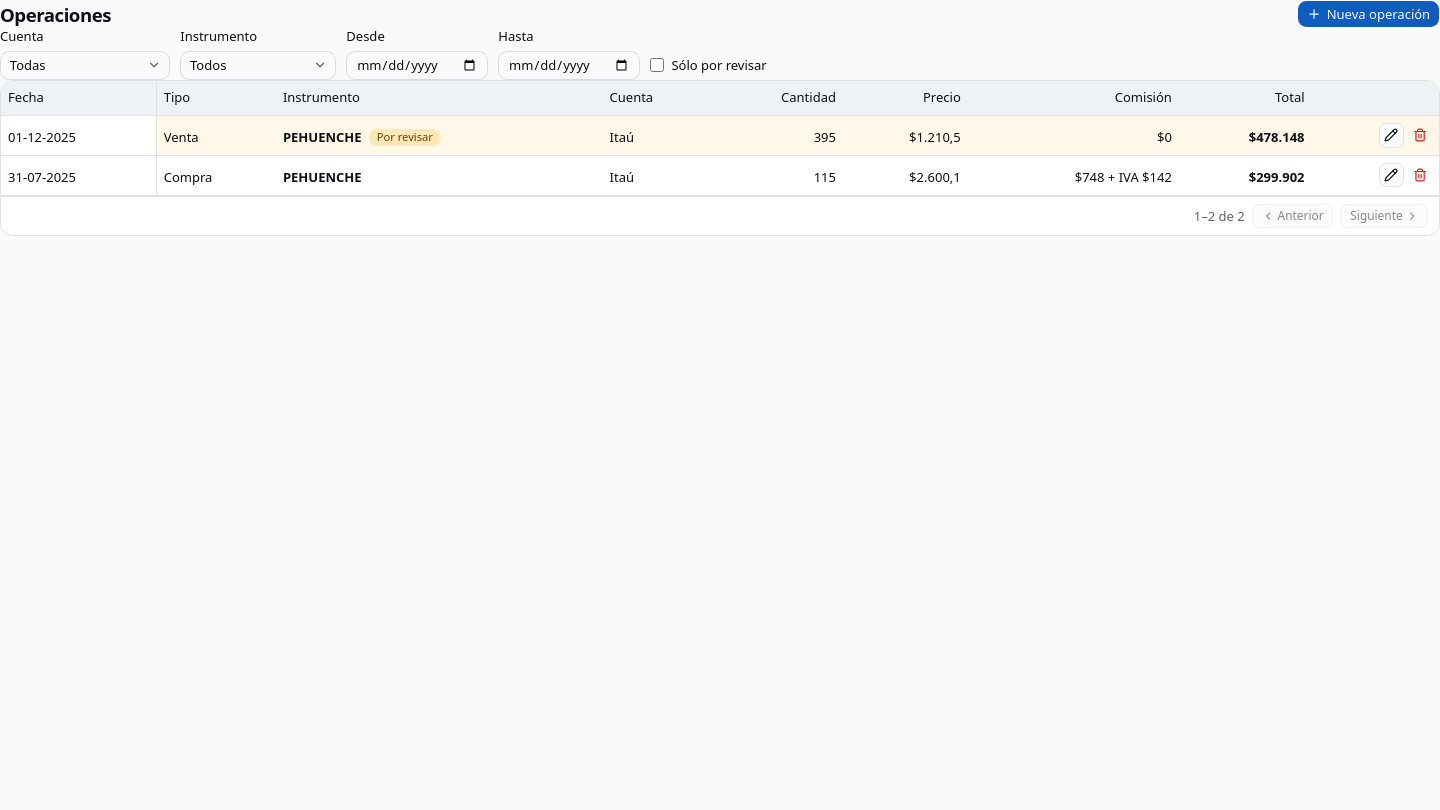
Scenario: TradesScreen › una venta que deja posición negativa muestra INSUFFICIENT_POSITION
Expected: the element named "Operaciones" is shown, [1,80,1439,196]
Click the button "Nueva operación" at (1369, 14), box [1297,0,1439,28]
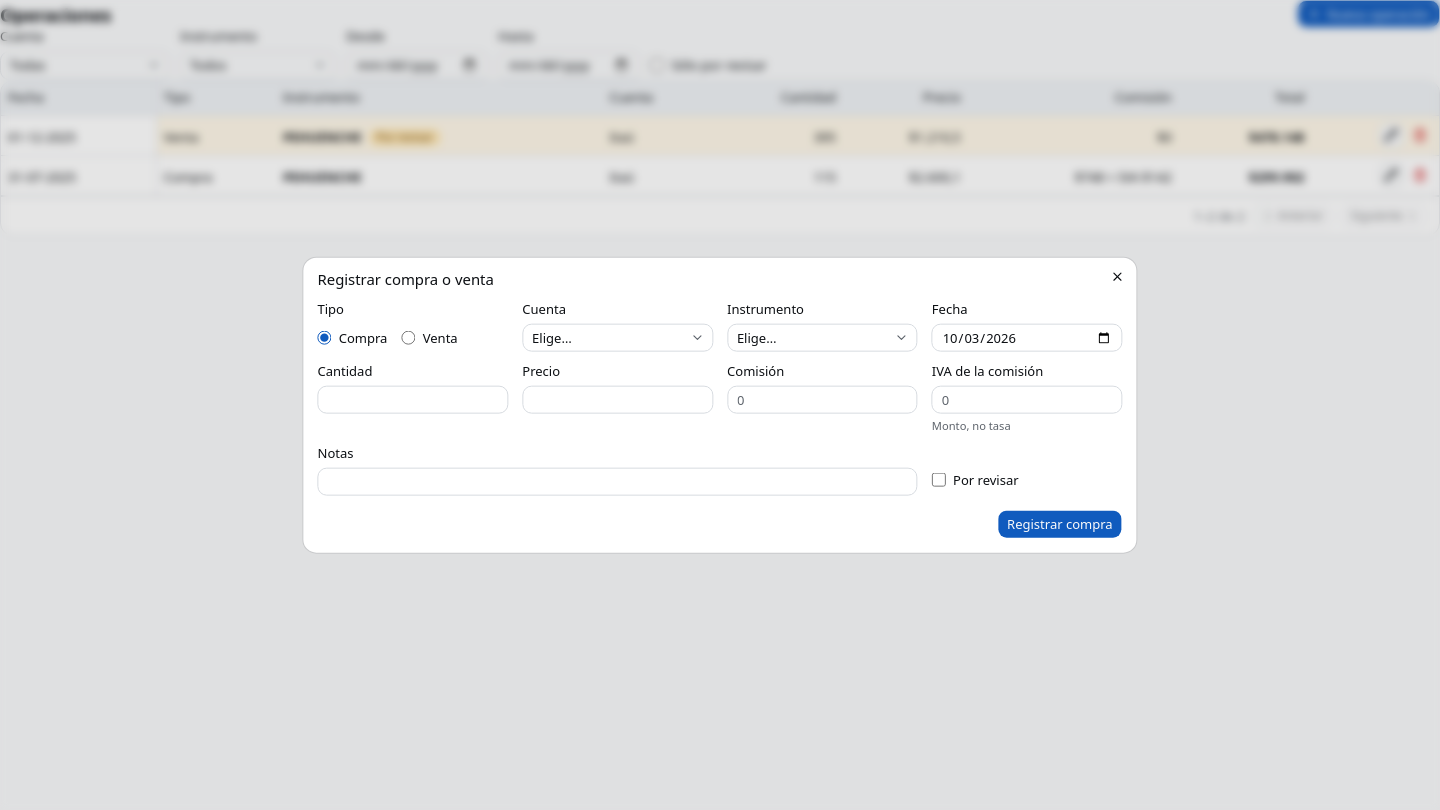
Click the radio button labelled "Venta" at (409, 338), box [402,331,416,345]
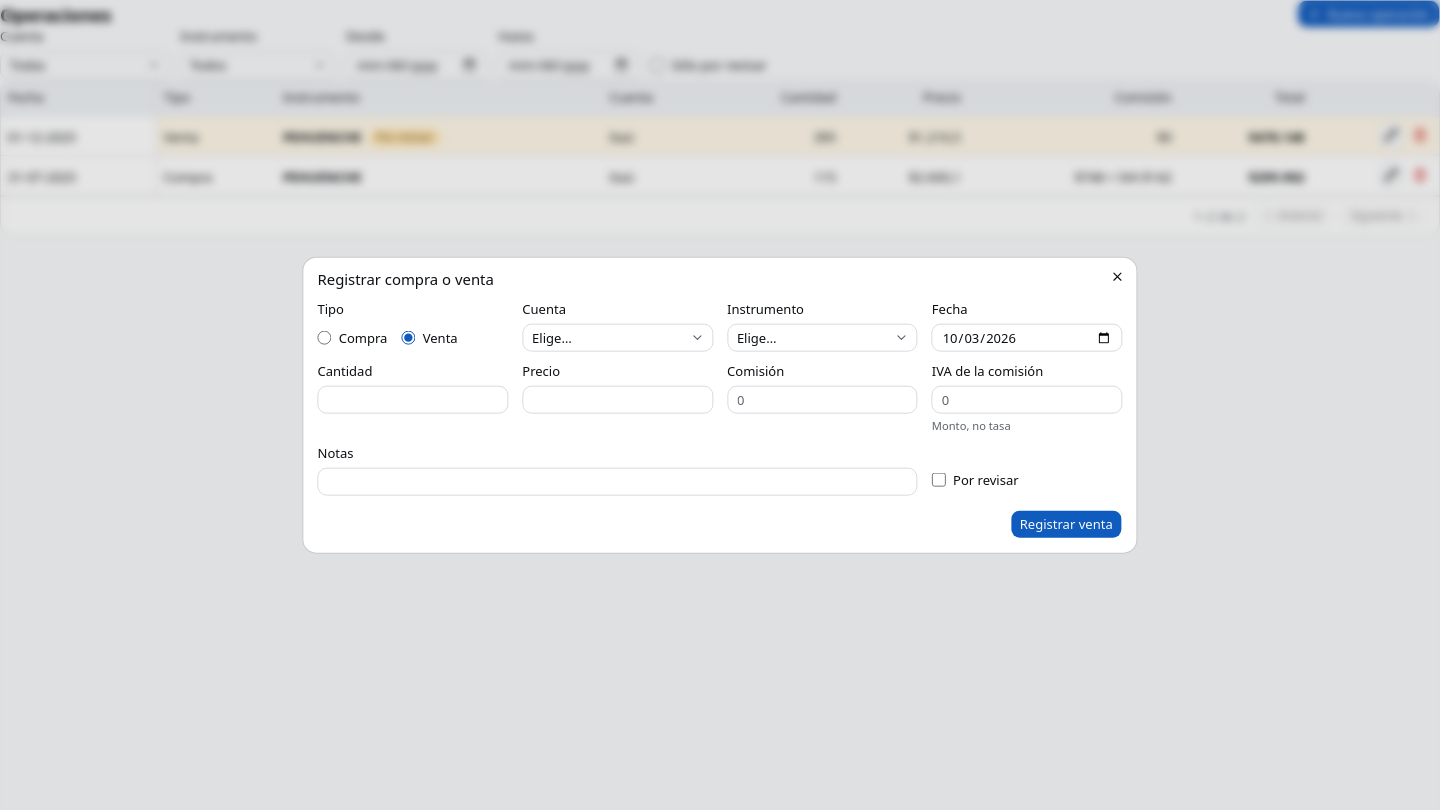
Select "Interactive Brokers" in the dropdown labelled "Cuenta" at (618, 338), box [522,324,713,352]
Select "KO · US" in the dropdown labelled "Instrumento" at (822, 338), box [727,324,918,352]
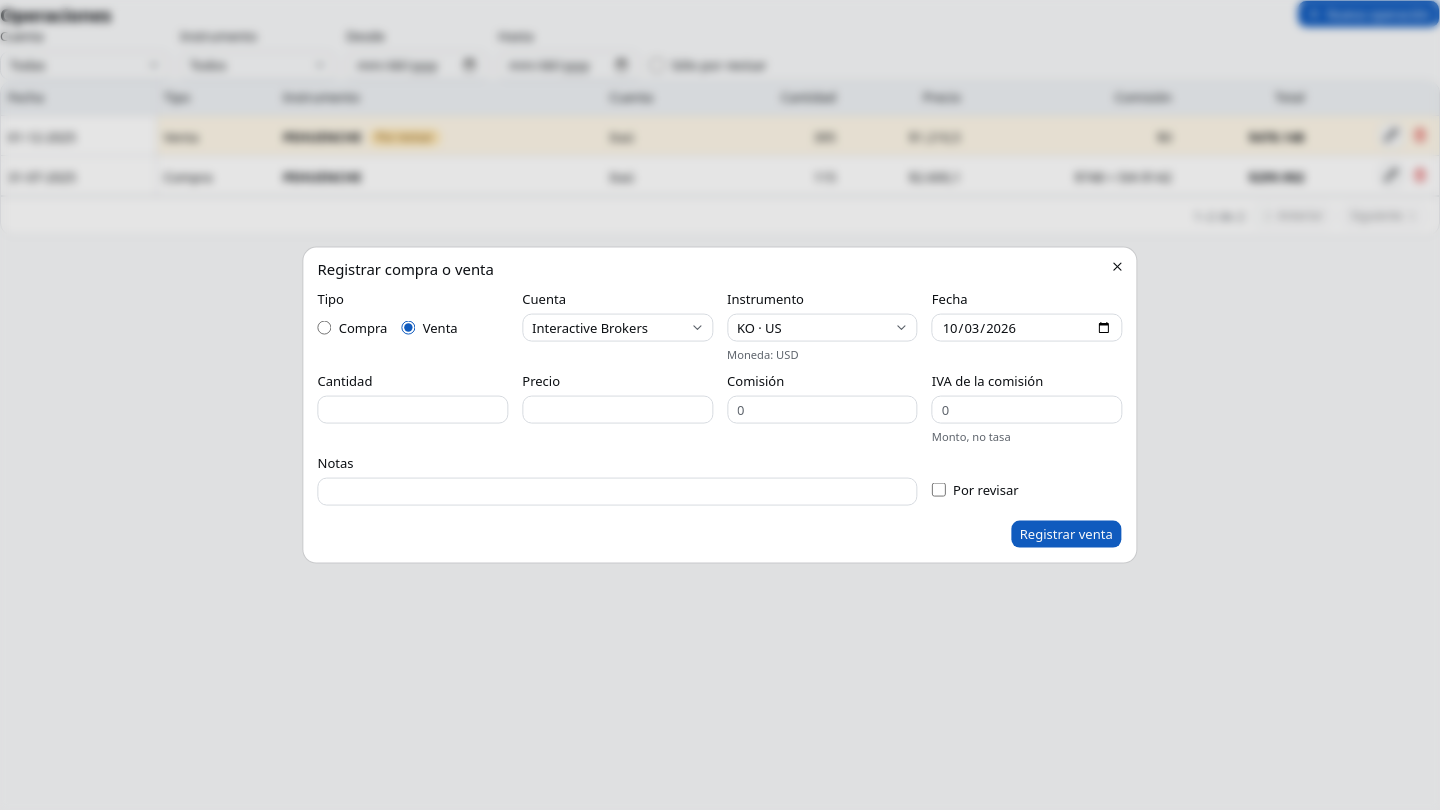
Type "1000" into the field labelled "Cantidad" at (413, 410), box [318,396,508,424]
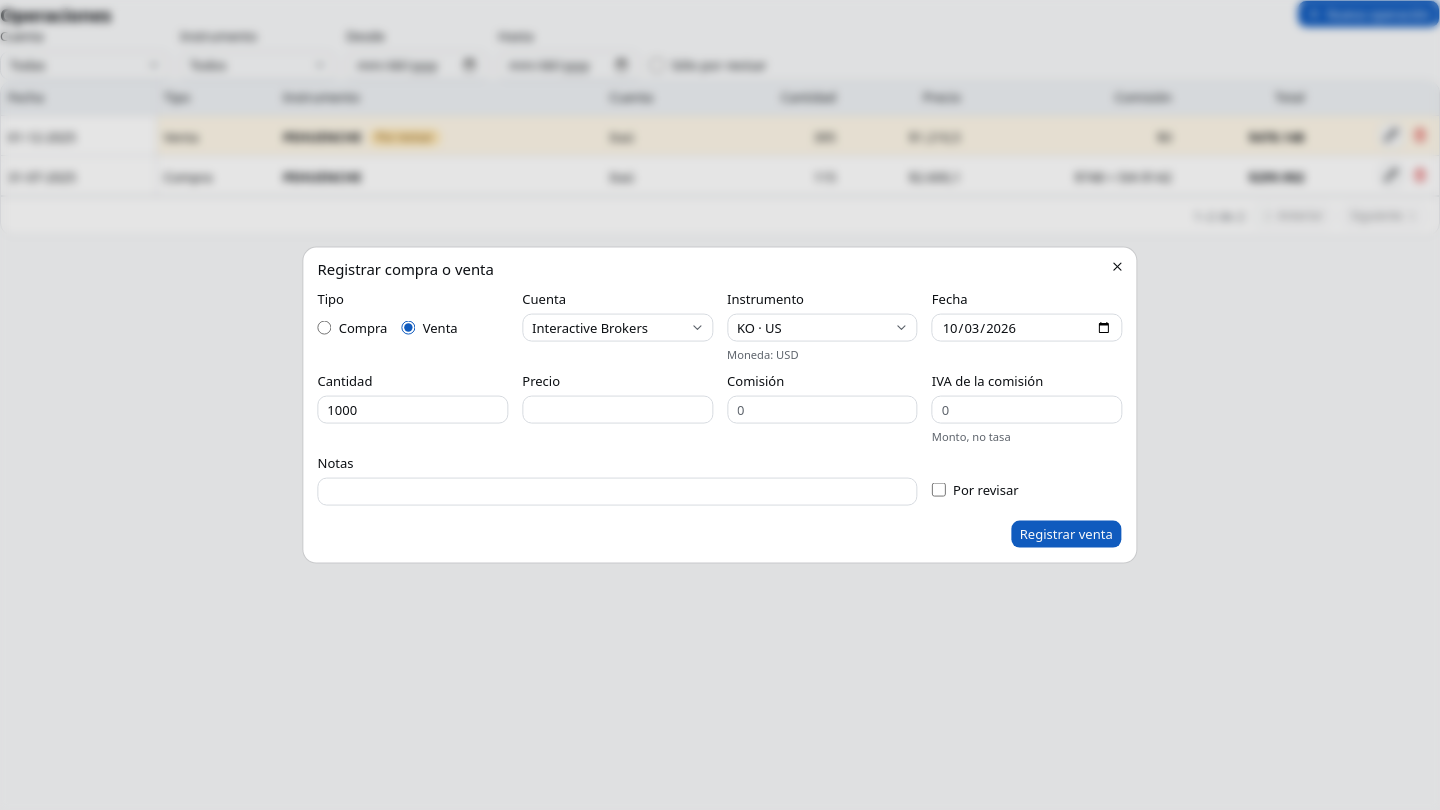
Type "61" into the field labelled "Precio" at (618, 410), box [522,396,713,424]
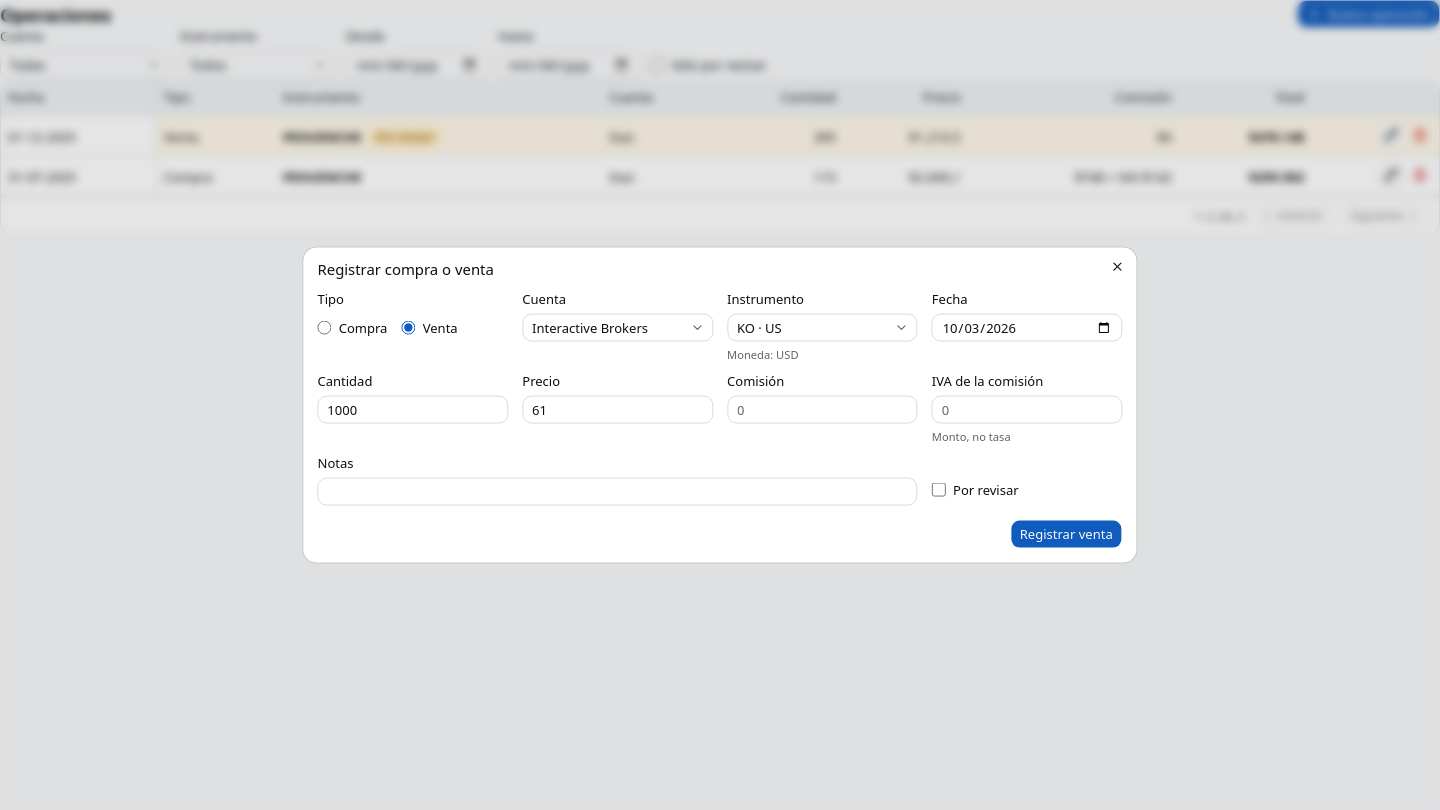
Click the button "Registrar venta" at (1066, 534), box [1010,520,1122,548]
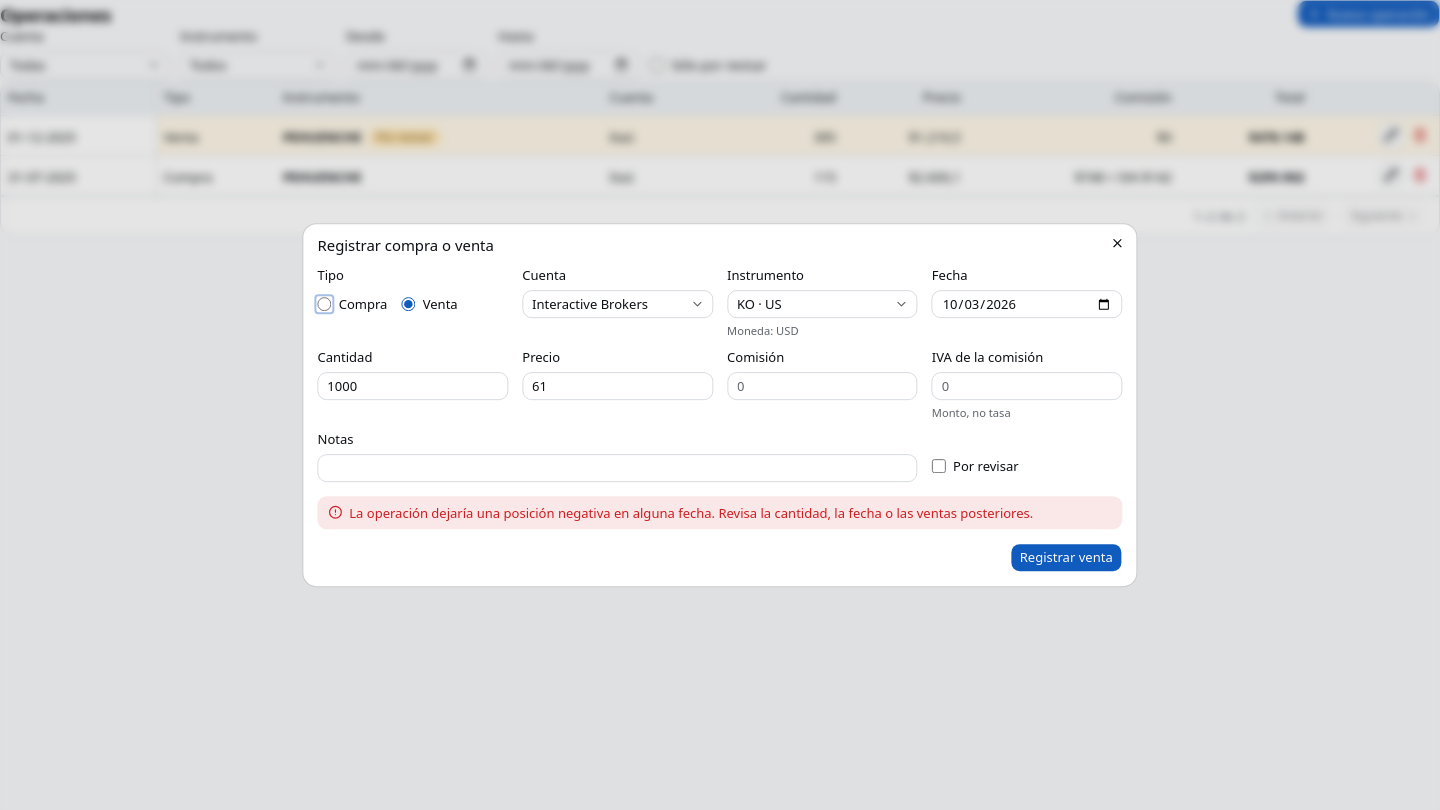
Expected: the message shows "posición negativa", [349,504,1033,522]
